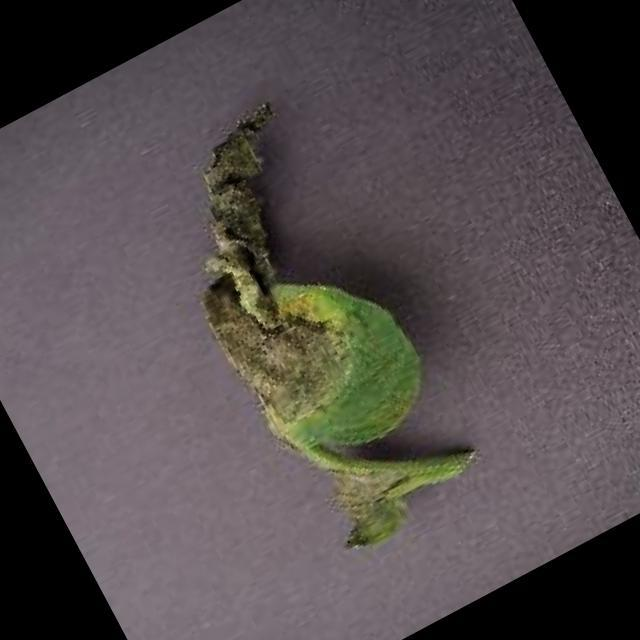Tomato late blight leaf: (119, 84, 452, 488)
